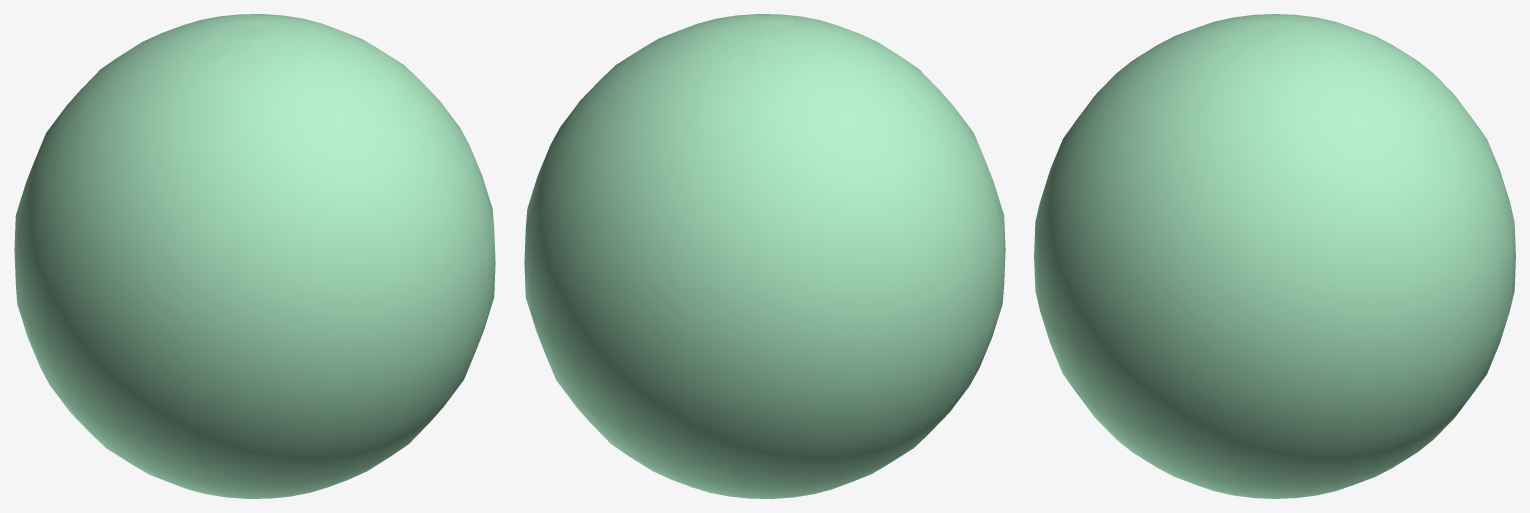
The model's file is Field.fbx.
The picture shows the model from 3 angles, left to right: view 1: azimuth 30°, elevation 25°; view 2: azimuth 150°, elevation 25°; view 3: azimuth 270°, elevation 25°; orthographic projection.
Visible parts, largest first — view 1: Force_field_orb; view 2: Force_field_orb; view 3: Force_field_orb.
Boxes of the visible parts, x1=… form: Force_field_orb: x1=14, y1=14, x2=495, y2=498; Force_field_orb: x1=524, y1=14, x2=1005, y2=498; Force_field_orb: x1=1034, y1=14, x2=1515, y2=498.
Size of the model in its own units: 2660 by 2662 by 2660.
